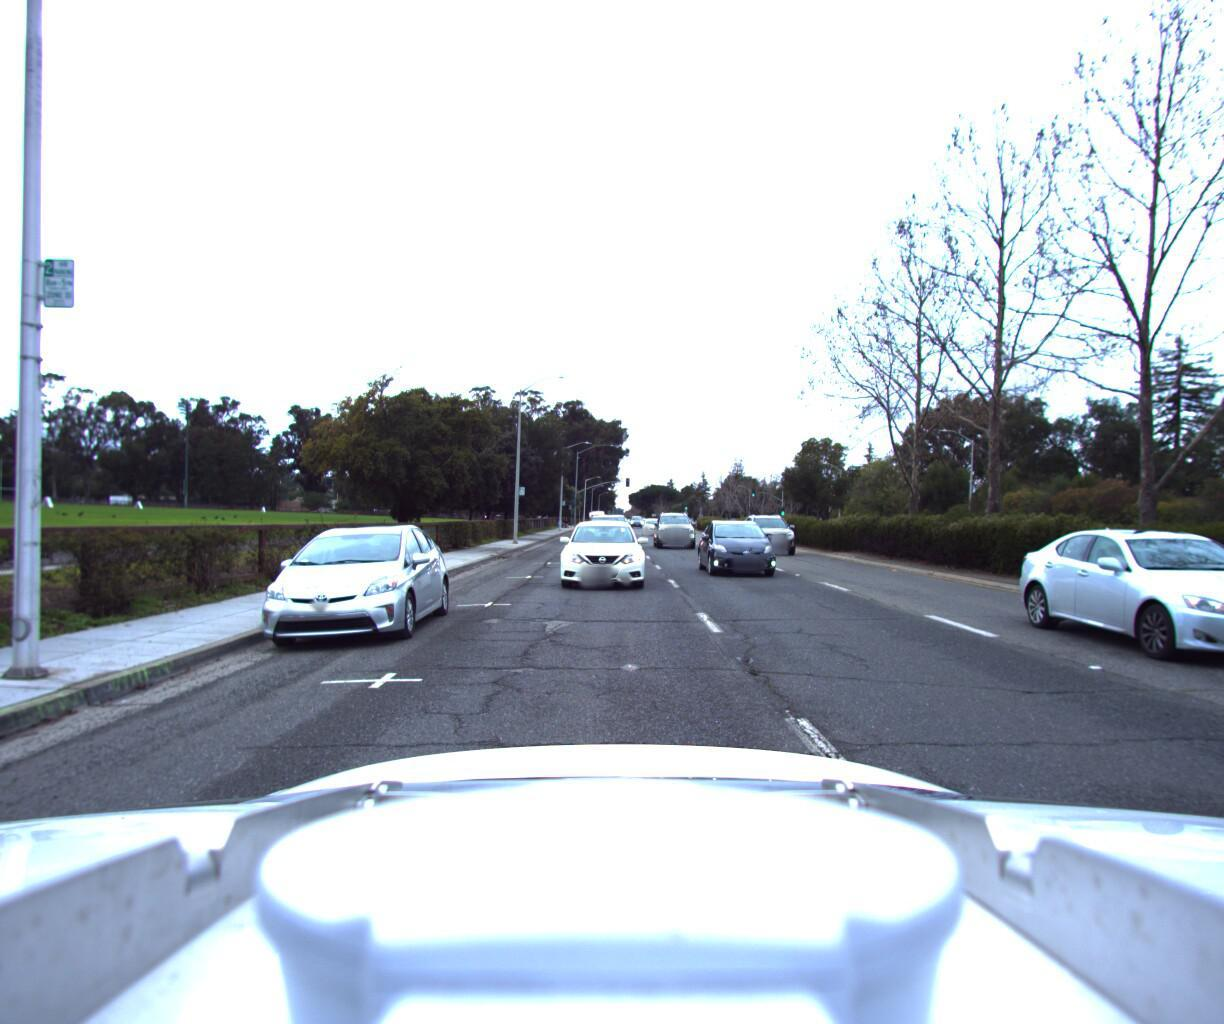car: (1062, 515, 1224, 710), (244, 528, 461, 656), (554, 523, 654, 603), (697, 521, 790, 591), (748, 521, 807, 569), (652, 524, 703, 560), (635, 526, 660, 546)
